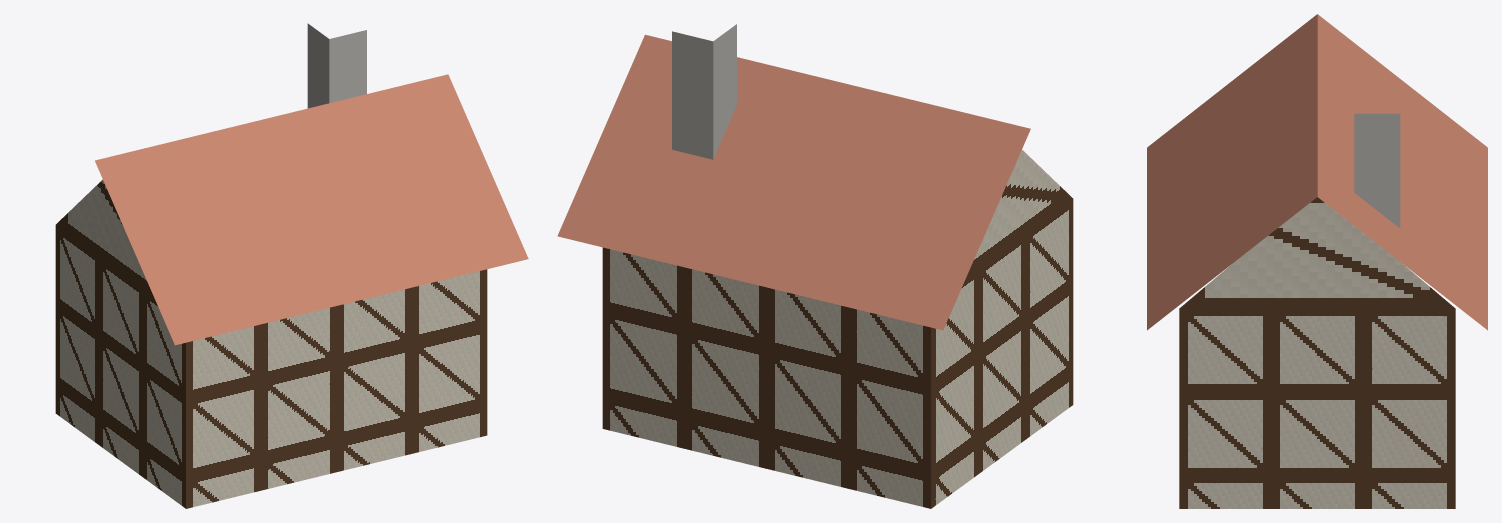
Rendered from test_house.glb.
3 renders of one model, left to right at view 1: azimuth 30°, elevation 25°; view 2: azimuth 150°, elevation 25°; view 3: azimuth 270°, elevation 25°, orthographic. The views are drawn at different scales.
Parts seen in each view (by area): view 1: test_house; view 2: test_house; view 3: test_house.
Boxes of the visible parts, x1,y1,x2,y2 form: test_house: [55, 23, 528, 508]; test_house: [557, 24, 1073, 508]; test_house: [1147, 14, 1487, 508].
Size of the model in its own units: 4.7 by 4.5 by 3.7.
Materials: 3 (1 with a texture image).
